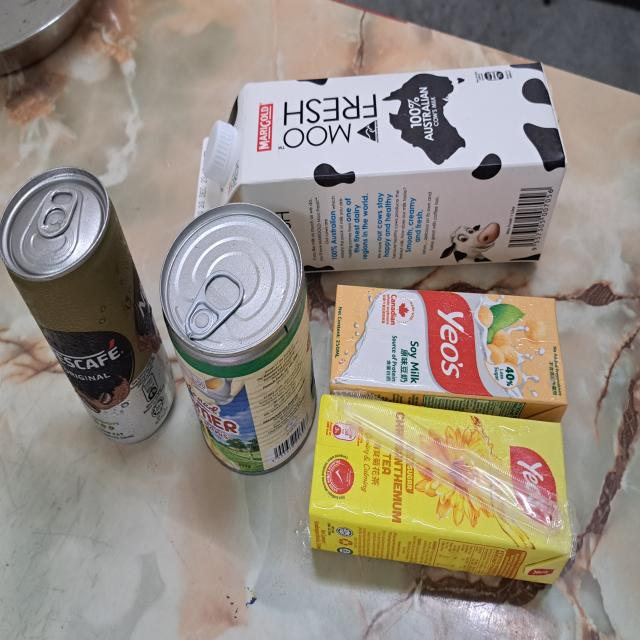can: (0, 167, 177, 446), (159, 202, 317, 475)
drink carton: (193, 62, 568, 273), (308, 394, 577, 586), (330, 286, 570, 422)
plastic bottle cap: (203, 119, 234, 185)
pop tab: (184, 269, 246, 342), (37, 188, 78, 238)
